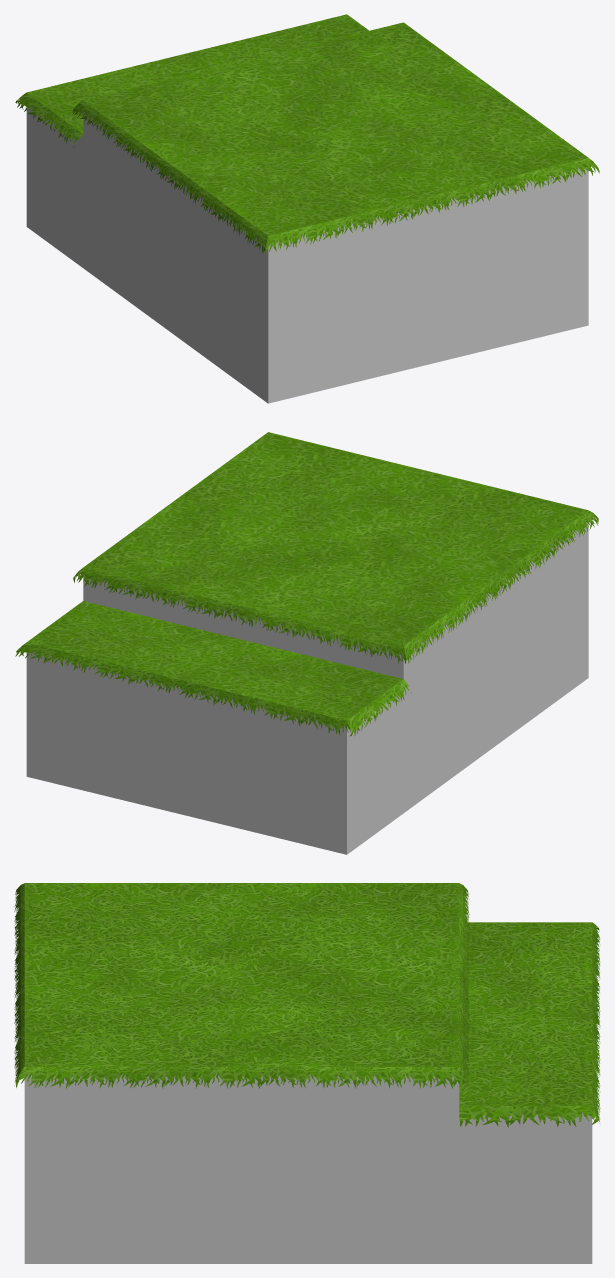
File: SM_world_3_ground_02.fbx
3 views of the same model, one above another, from view 1: azimuth 30°, elevation 25°; view 2: azimuth 150°, elevation 25°; view 3: azimuth 270°, elevation 25° (orthographic). The views are drawn at different scales.
Parts seen in each view (by area): view 1: Ground.005; view 2: Ground.005; view 3: Ground.005.
Boxes of the visible parts, x1,y1,x2,y2 form: Ground.005: (15,14,599,403); Ground.005: (15,432,598,854); Ground.005: (14,883,600,1263).
Size of the model in its own units: 2111 by 2701 by 1000.
